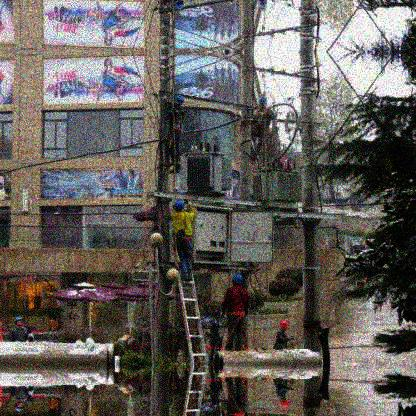helmet: (279, 395, 290, 409), (174, 94, 184, 109), (280, 319, 289, 334), (14, 314, 23, 328), (258, 95, 267, 109), (14, 400, 24, 412)
